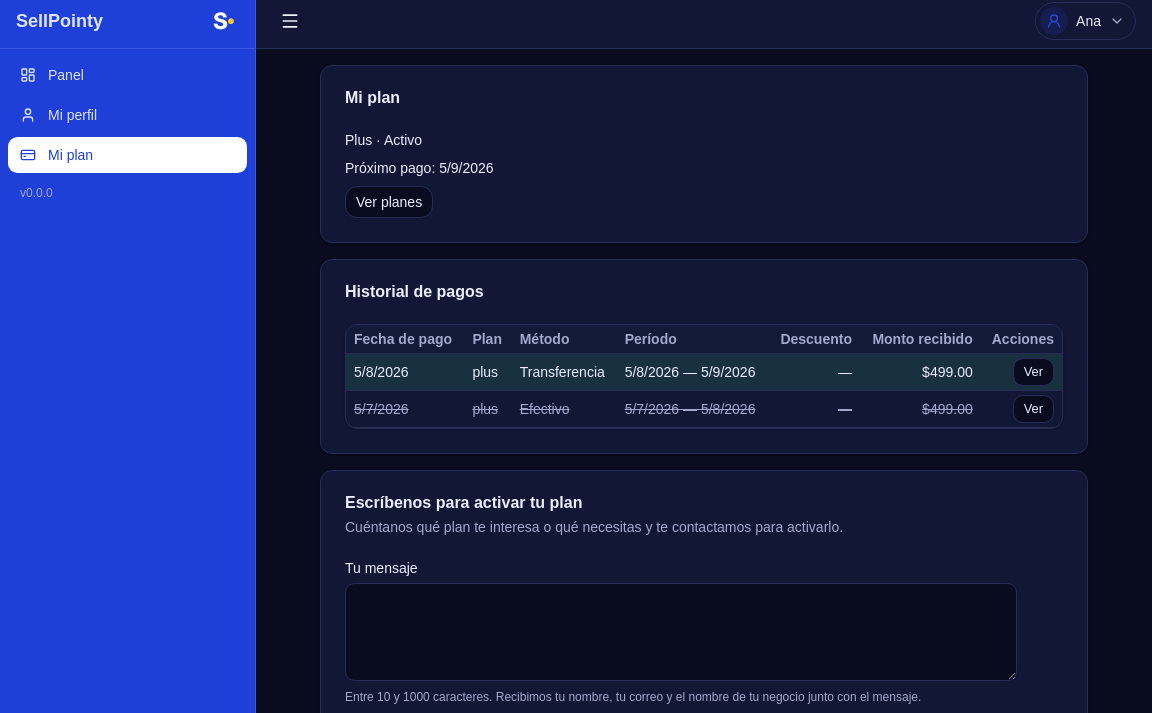
Test: Mi plan /settings/billing (F7-WEB-09) › anulado tachado, y «Ver» abre abajo el detalle de ese pago
Click the button with aria-label "Ver pago del": (1033, 409) x1=1013 y1=395 x2=1054 y2=423
(page scrolled)
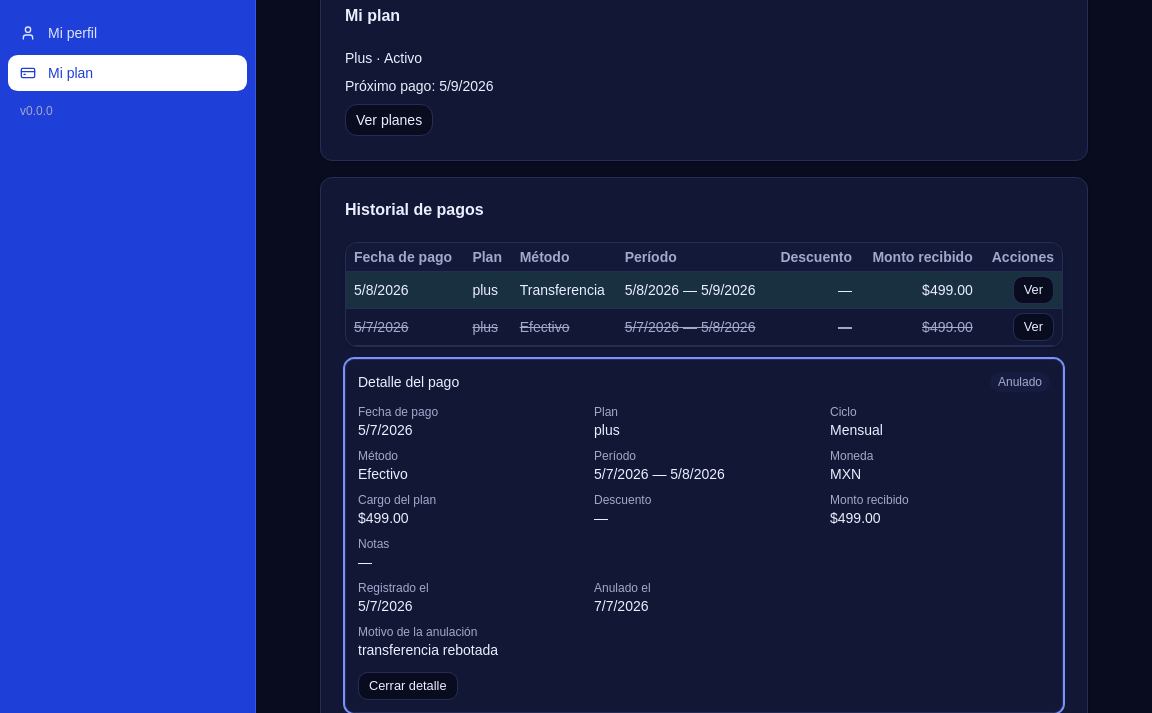
expect the text "transferencia rebotada" is shown: met, box x1=358 y1=642 x2=498 y2=658
expect the text "7/7/2026" is shown: met, box x1=594 y1=598 x2=648 y2=614
